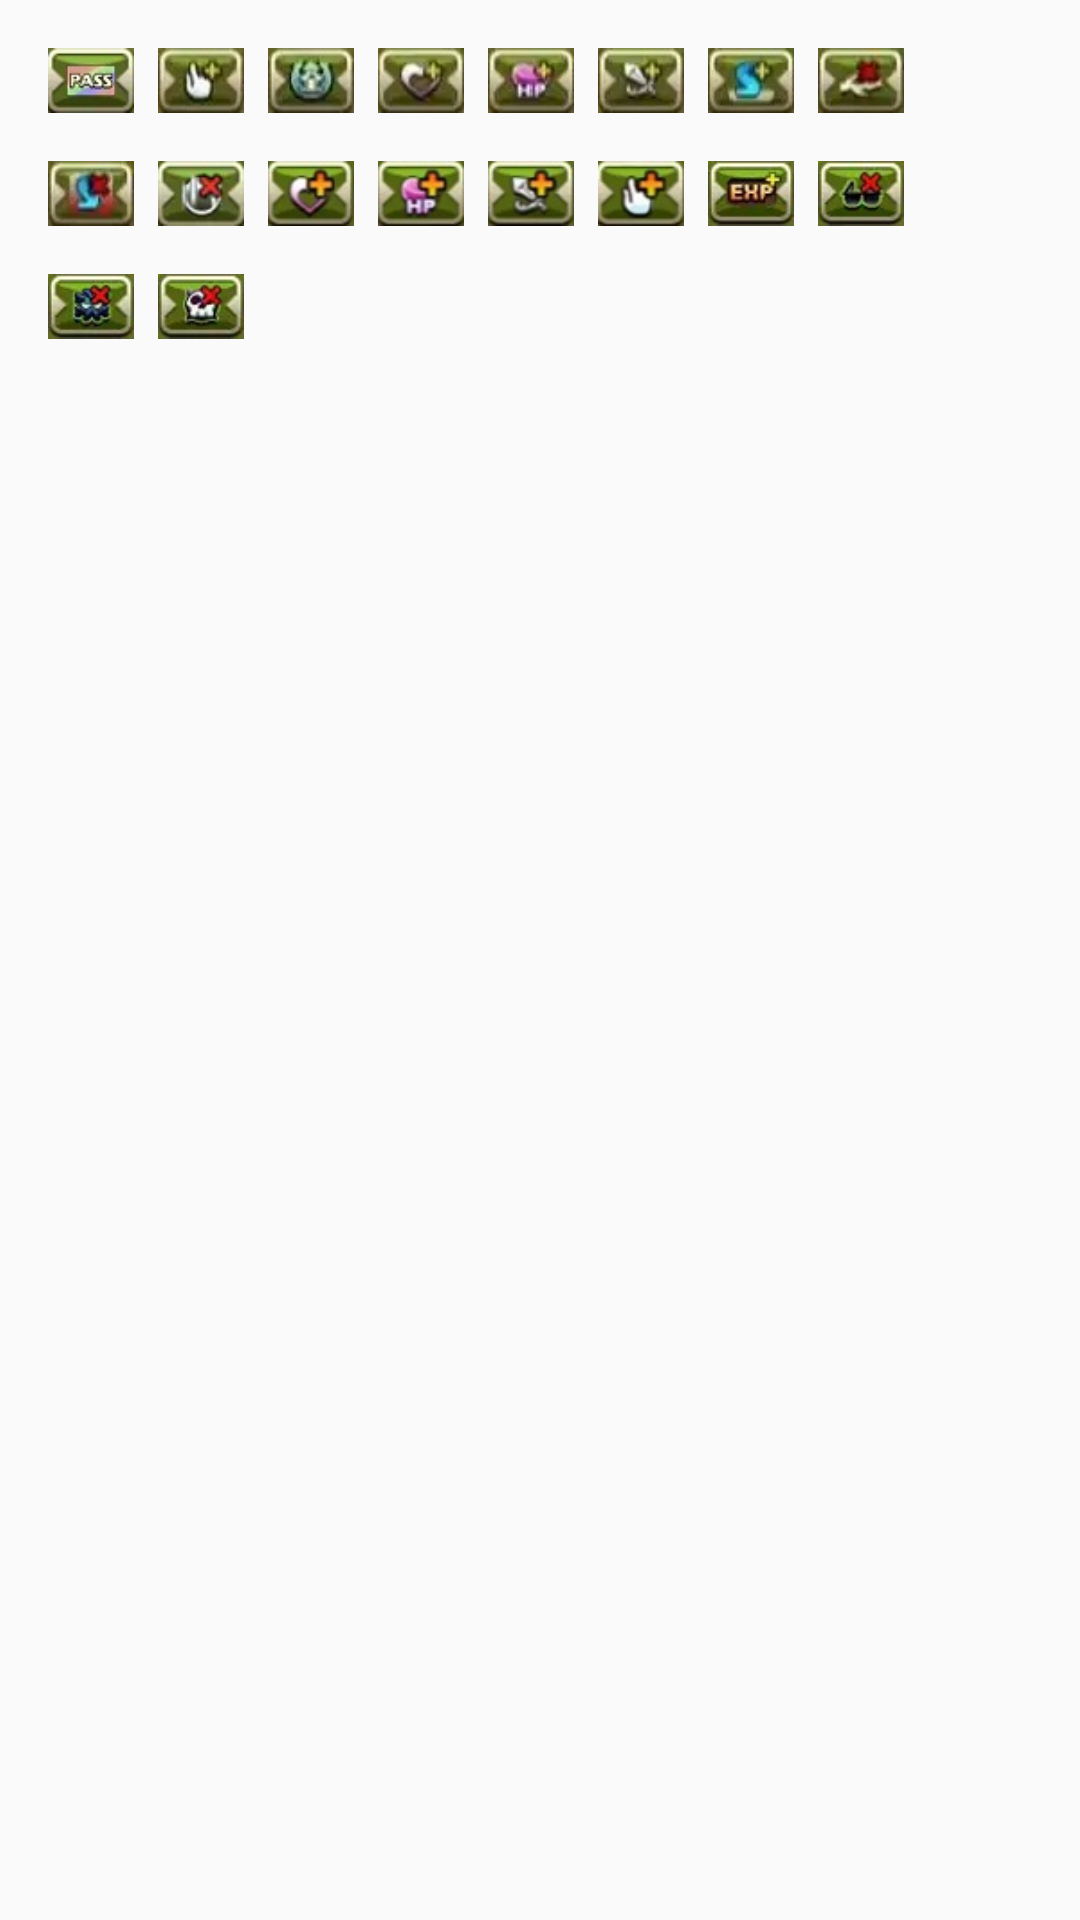

Where icons sit on this 1080px x 1920px app screen, as box(x1, y1, x2, y2):
atk: box(598, 48, 684, 113), box(488, 161, 574, 226)
heal: box(378, 48, 464, 113), box(268, 161, 354, 226)
move: box(158, 48, 244, 113)
move plus: box(598, 161, 684, 226)
poison: box(158, 274, 244, 339)
